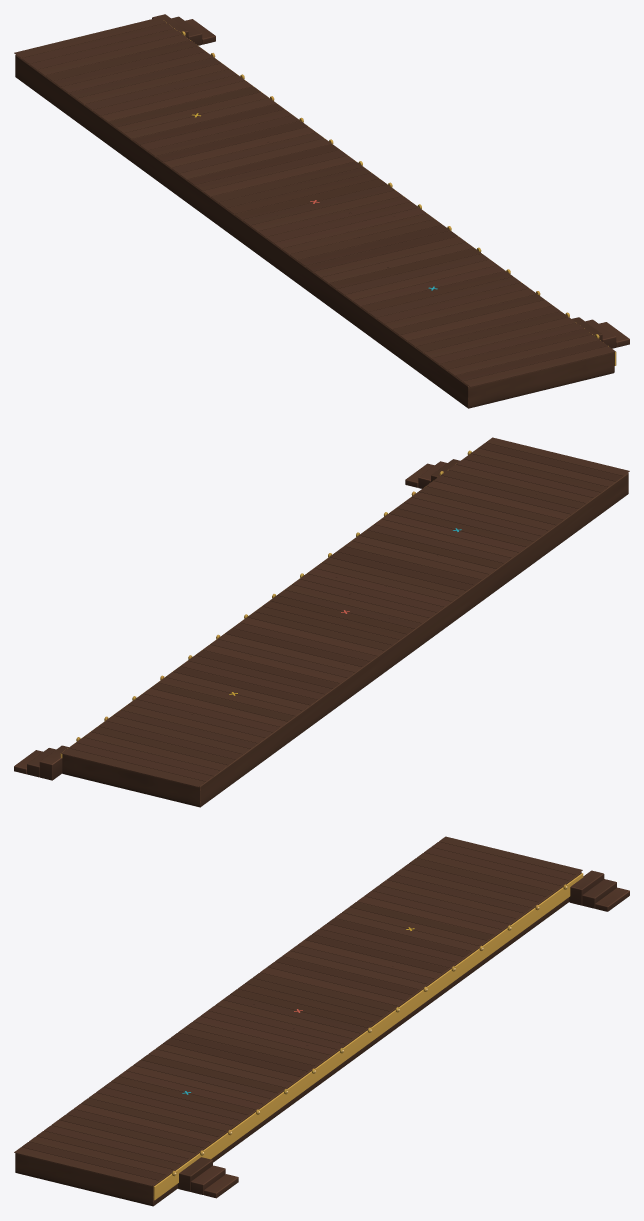
The model's file is SM_Cinema_Stage.fbx.
3 renders of one model, top to bottom at view 1: azimuth 30°, elevation 25°; view 2: azimuth 150°, elevation 25°; view 3: azimuth 330°, elevation 25°, orthographic. The views are drawn at different scales.
Parts seen in each view (by area): view 1: SM_Cinema_Stage; view 2: SM_Cinema_Stage; view 3: SM_Cinema_Stage.
Part boxes in pixels (x1,y1,x2,y2): SM_Cinema_Stage: [14, 14, 629, 408]; SM_Cinema_Stage: [14, 437, 629, 807]; SM_Cinema_Stage: [14, 836, 629, 1206].
Size of the model in its own units: 550 by 67.02 by 2358.
